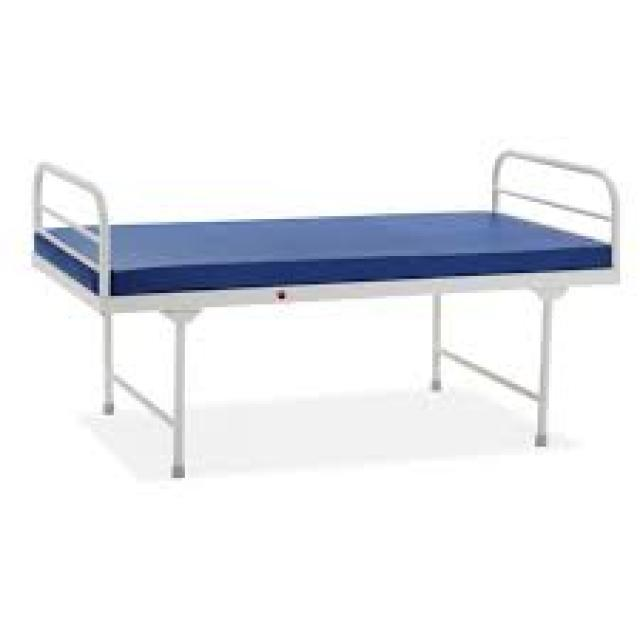bed: (29, 148, 620, 478)
